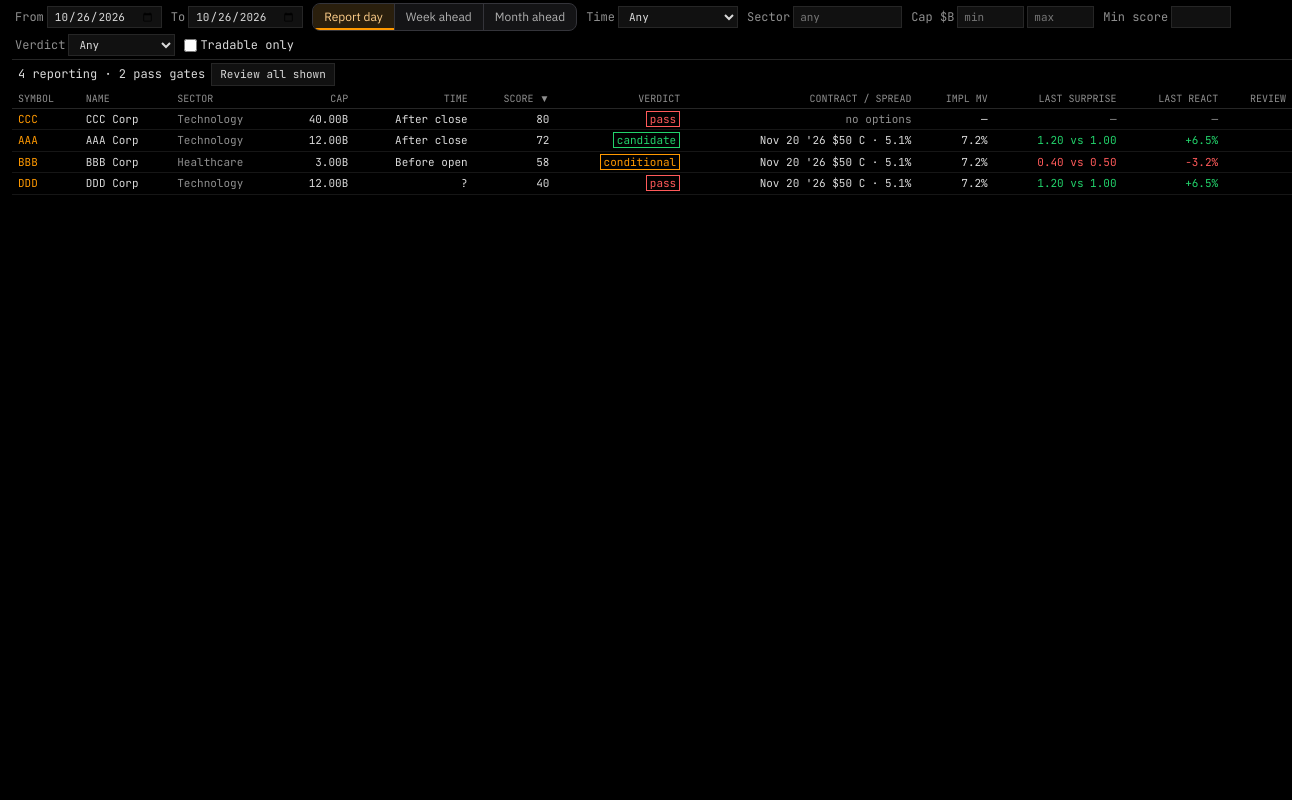
Scenario: EarningsTab › expands a row to components, gates, history, events, analyst and revisions
Expected: the button "AAA" is shown, [18,132,38,148]
What coordinates should you click on to do the following:
click the row with test id "row-AAA"
I would click on:
 (652, 140)
Its box is [12,130,1291,151].
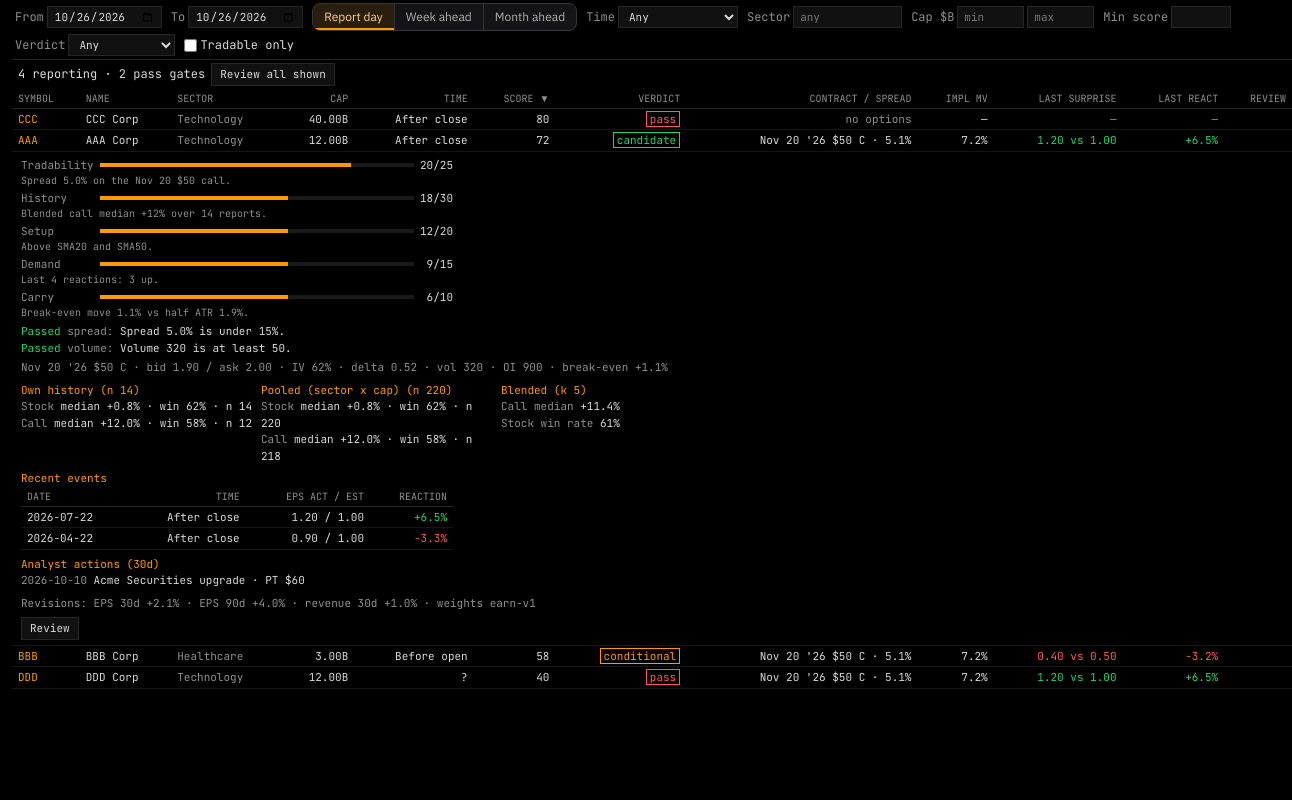
Result: the text "20/25" is shown at [420,156,453,173]
Result: the text "Blended call median +12% over 14 reports." is shown at [21,207,267,220]
Result: the text "Passed spread: Spread 5.0% is under 15%." is shown at [21,324,285,338]
